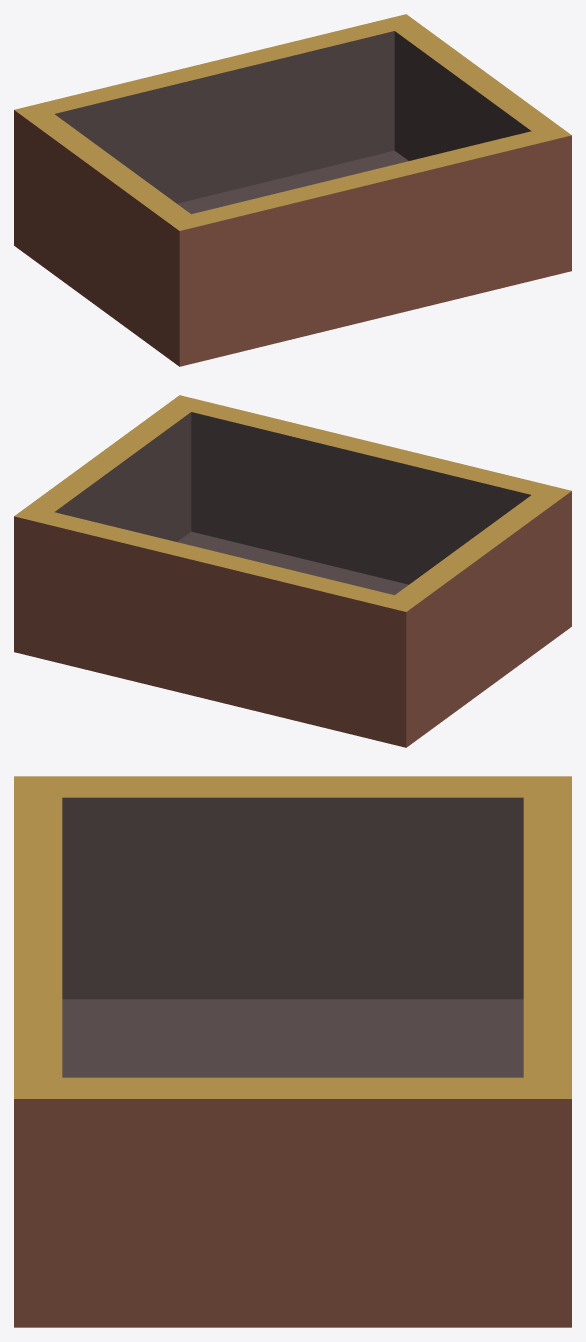
The model's file is TB_Prop_Box_C.FBX.
3 renders of one model, top to bottom at view 1: azimuth 30°, elevation 25°; view 2: azimuth 150°, elevation 25°; view 3: azimuth 270°, elevation 25°, orthographic. The views are drawn at different scales.
Parts seen in each view (by area): view 1: TB_Prop_Box_C; view 2: TB_Prop_Box_C; view 3: TB_Prop_Box_C.
Boxes of the visible parts, x1=… form: TB_Prop_Box_C: x1=14, y1=14, x2=571, y2=366; TB_Prop_Box_C: x1=14, y1=395, x2=571, y2=747; TB_Prop_Box_C: x1=14, y1=776, x2=571, y2=1327.
Size of the model in its own units: 1.04 by 0.3455 by 0.764.
